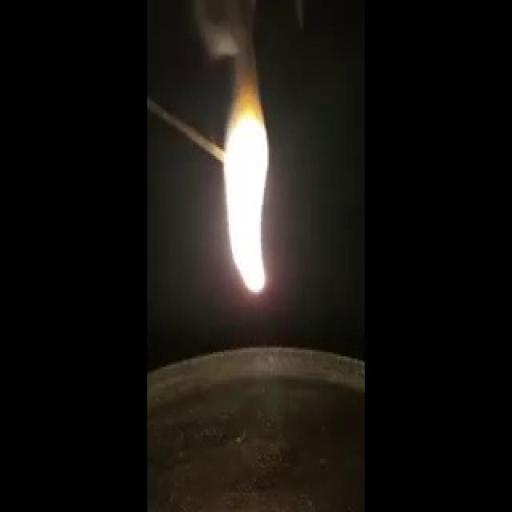smoke: (210, 48, 273, 308)
